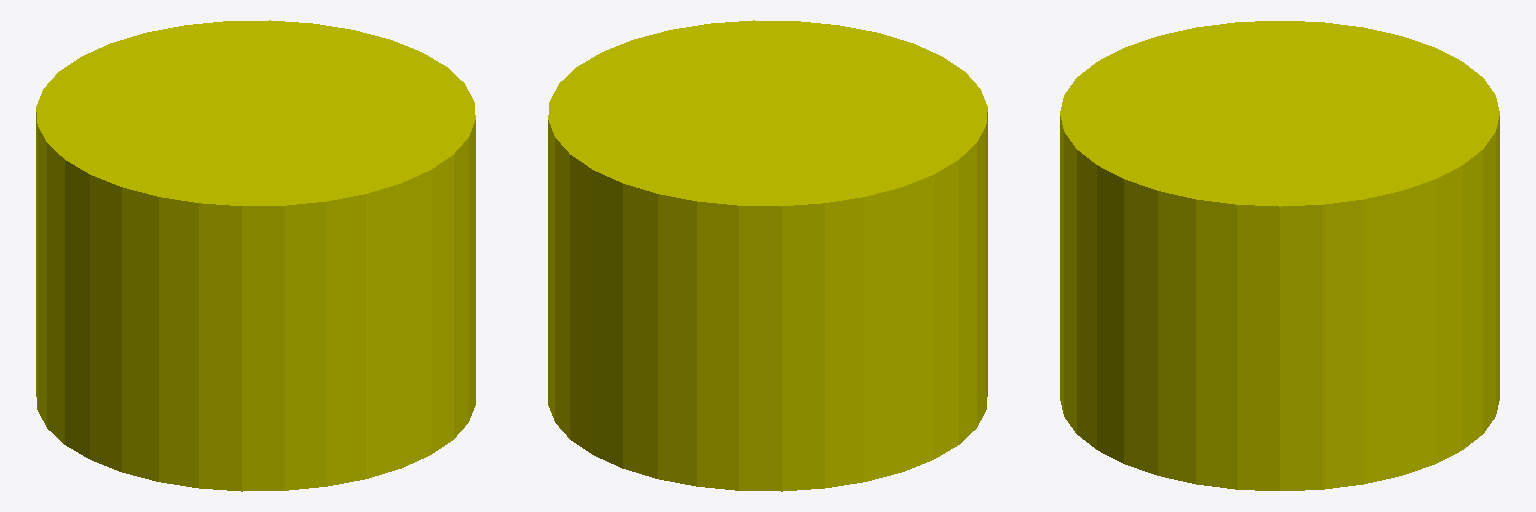
URDF robot description (disc):
<robot name="disc">
    <material name="yellow">
        <color rgba="0.8 0.8 0 1.0" />
    </material>
    <link name="base_link">
        <contact>
            <lateral_friction value="1.0" />
            <rolling_friction value="0.001" />
            <contact_cfm value="0.0" />
            <contact_erp value="1.0" />
        </contact>
        <inertial>
            <origin rpy="0 0 0" xyz="0.0 0.0 0.0" />
            <mass value=".1" />
            <inertia ixx="1" ixy="0" ixz="0" iyy="1" iyz="0" izz="1" />
        </inertial>
        <visual>
            <origin rpy="0 0 0" xyz="0 0 0" />
            <geometry>
                <cylinder length="0.005" radius="0.0035" />
            </geometry>
            <material name="yellow" />
        </visual>
        <collision>
            <origin rpy="0 0 0" xyz="0 0 0" />
            <geometry>
                <cylinder length="0.005" radius="0.0035" />
            </geometry>
        </collision>
    </link>
</robot>

--- What the picture shows (computed from the rendered views, not written in the file) ---
3 views of the same robot in one strip: view 1: azimuth 30°, elevation 25°; view 2: azimuth 150°, elevation 25°; view 3: azimuth 270°, elevation 25° (orthographic).
Robot: disc — 1 links, 0 joints (none); root link base_link; default pose: all joints at 0.
Visible links, largest first — view 1: base_link; view 2: base_link; view 3: base_link.
Boxes of the visible links, x1,y1,x2,y2 form: base_link: (36,20,475,491); base_link: (548,20,987,491); base_link: (1060,21,1499,490).
Size in the robot's own frame: 0.007 by 0.007 by 0.005 metres.
Geometry: primitives only (box / cylinder / sphere), no mesh files.